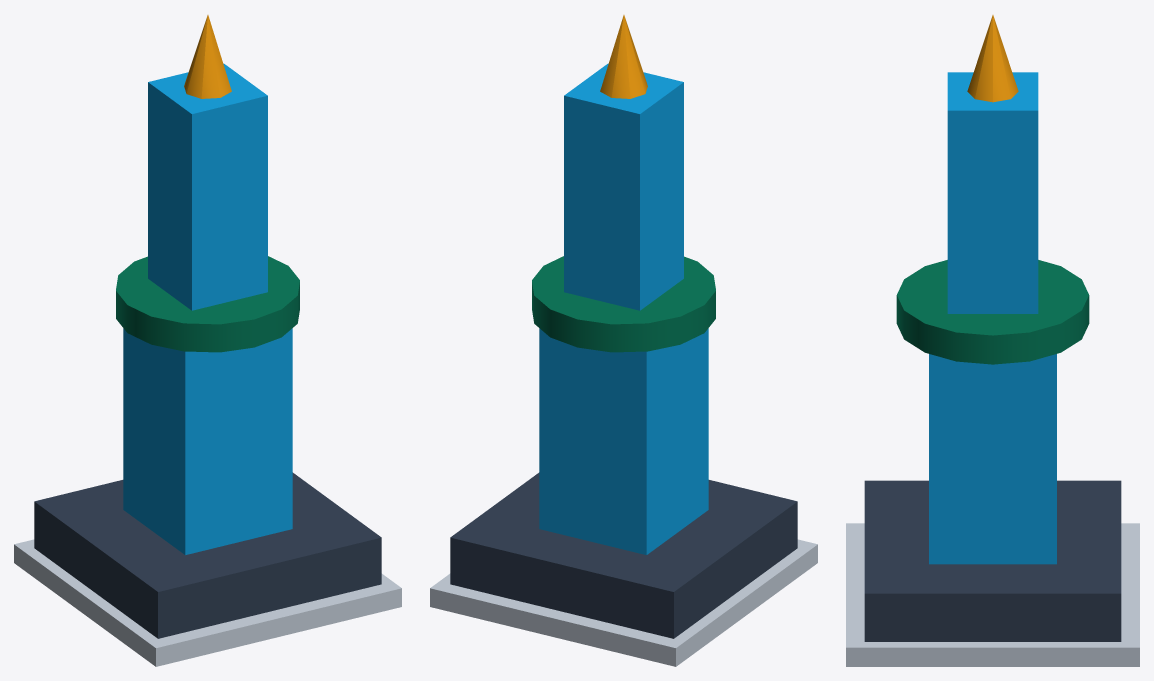
The model's file is bld_c3_cell_37.glb.
The picture shows the model from 3 angles, left to right: view 1: azimuth 30°, elevation 25°; view 2: azimuth 150°, elevation 25°; view 3: azimuth 270°, elevation 25°; orthographic projection. The views are drawn at different scales.
Visible parts, largest first — view 1: Bld_C3_Cell_37_BespokeLandmark; view 2: Bld_C3_Cell_37_BespokeLandmark; view 3: Bld_C3_Cell_37_BespokeLandmark.
Boxes of the visible parts, bbox=[...] form: Bld_C3_Cell_37_BespokeLandmark: bbox=[14, 15, 401, 666]; Bld_C3_Cell_37_BespokeLandmark: bbox=[430, 15, 817, 666]; Bld_C3_Cell_37_BespokeLandmark: bbox=[846, 15, 1139, 666].
Size of the model in its own units: 0.55 by 1.22 by 0.55.
